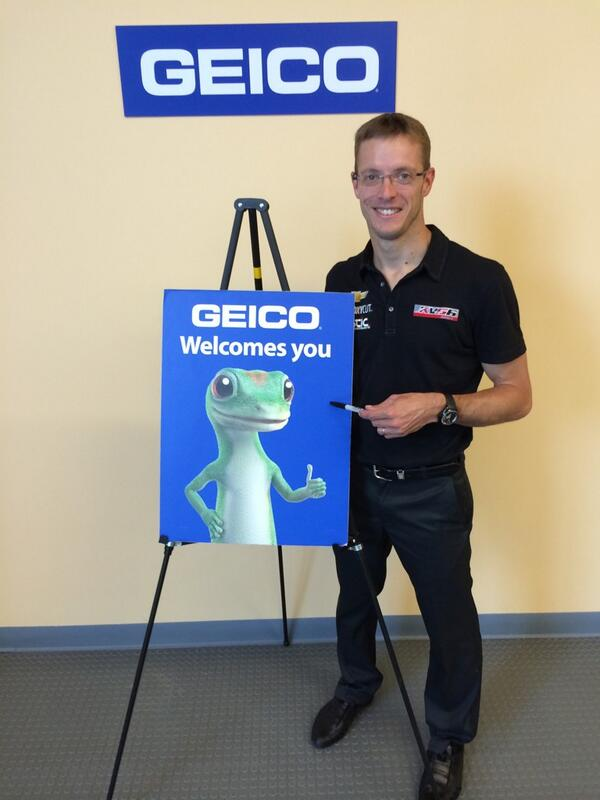Geico: (132, 38, 387, 99), (192, 298, 335, 334)
